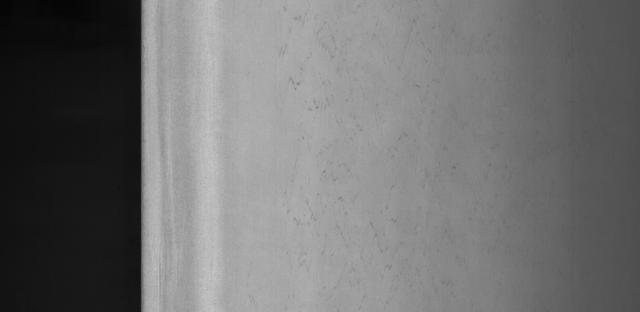silk_spot: (272, 0, 444, 259)
